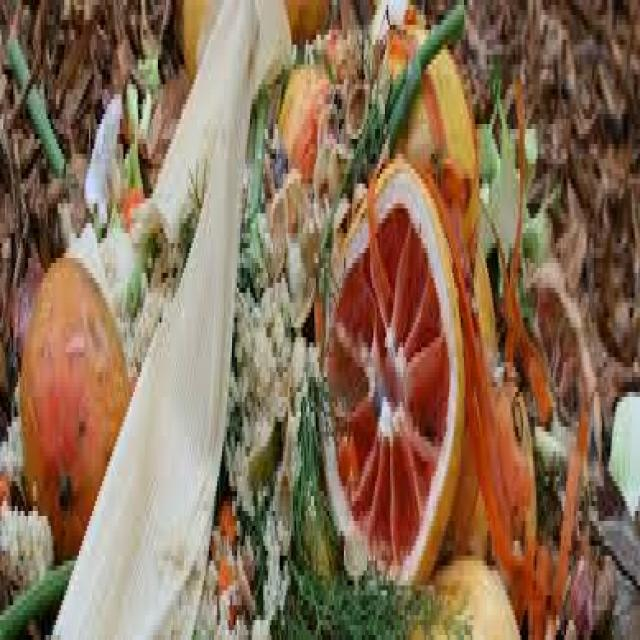food_waste: (24, 66, 625, 557), (401, 31, 631, 611)
